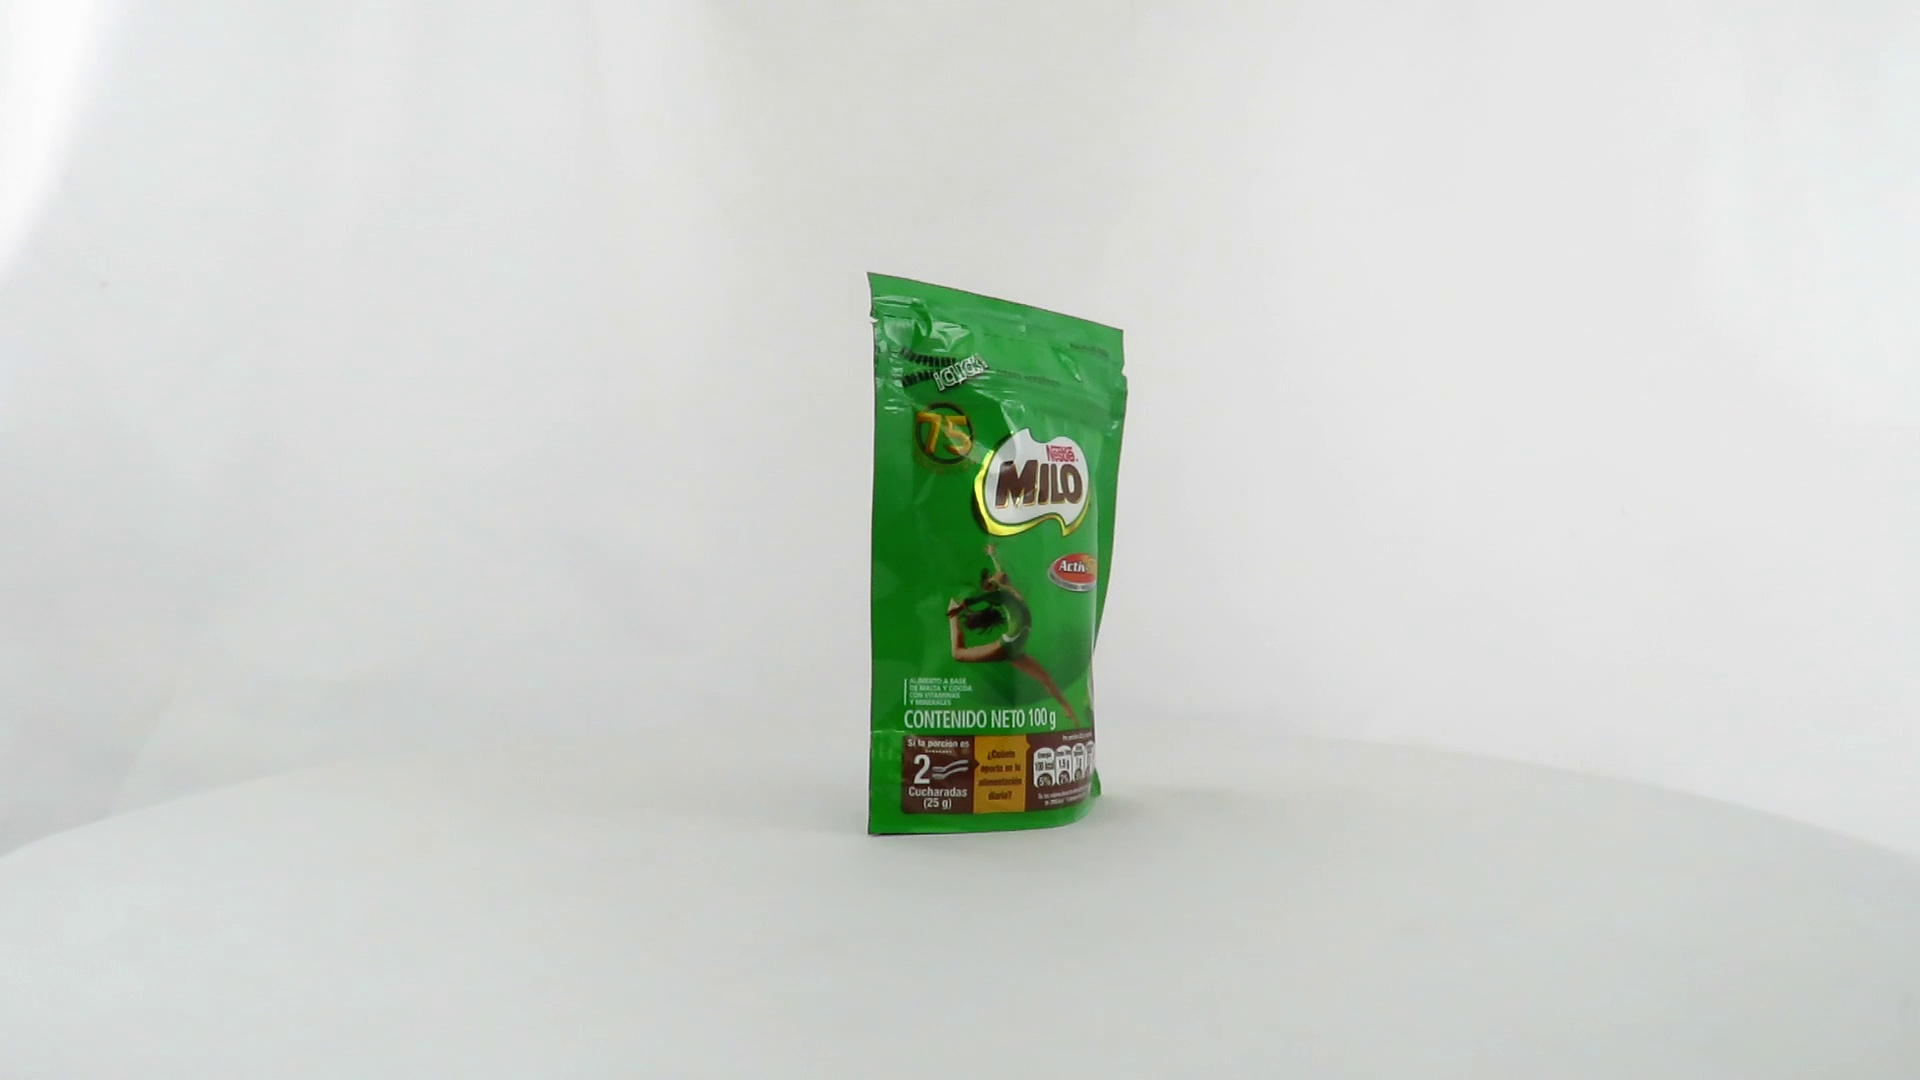COL0170203DYP10000: (861, 266, 1134, 843)
